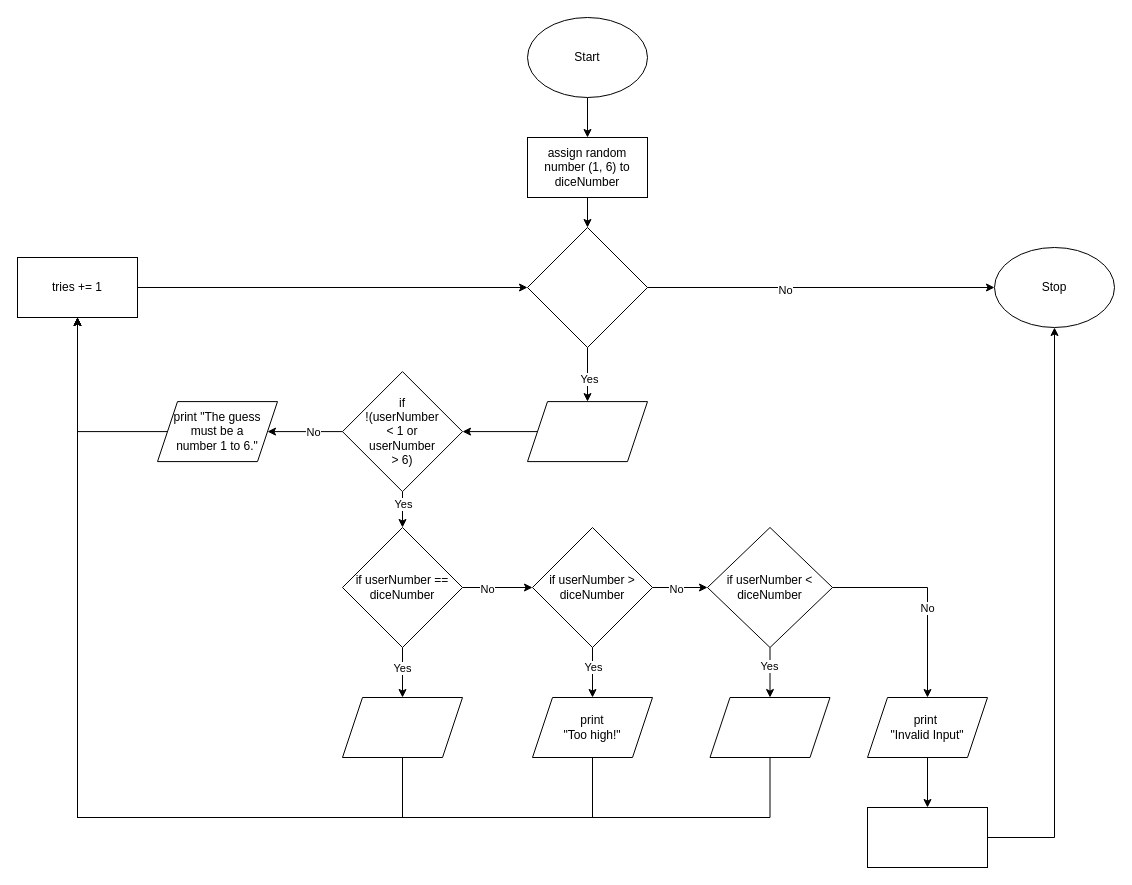
The diagram is 1132 pixels wide and 885 high, and some of its shapes have lost their labels. Each missing label, with the centre of its shape:
break: point 927,837
input userNumber: point 587,431
print "Too low!": point 769,727
print "You are correct!": point 402,727
while userNumber != diceNumber: point 587,287
